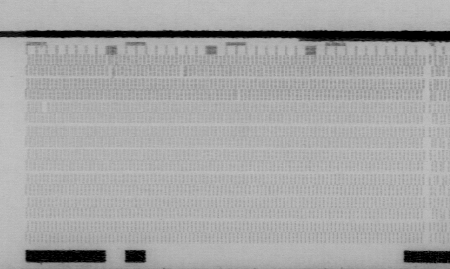Broken hole: (39, 101, 52, 114)
Oblique printing: (430, 54, 450, 233), (103, 55, 119, 80), (176, 63, 189, 80), (230, 88, 244, 101)
